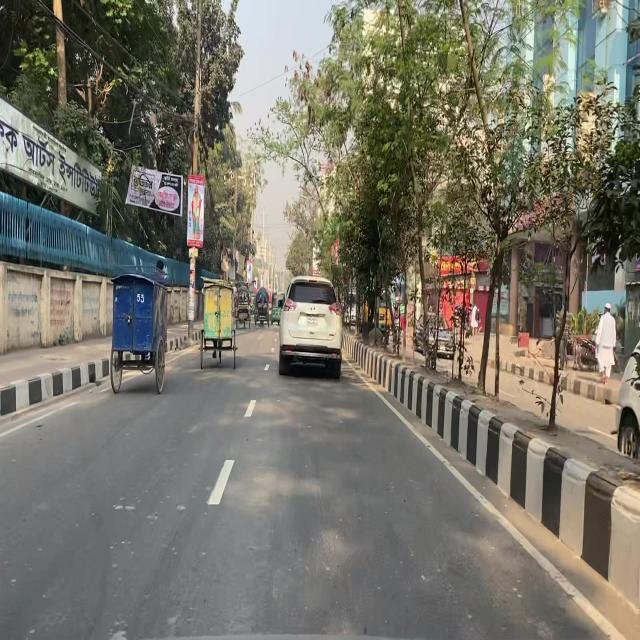car: (277, 275, 344, 382), (413, 312, 456, 361)
motorbike: (574, 326, 620, 374)
